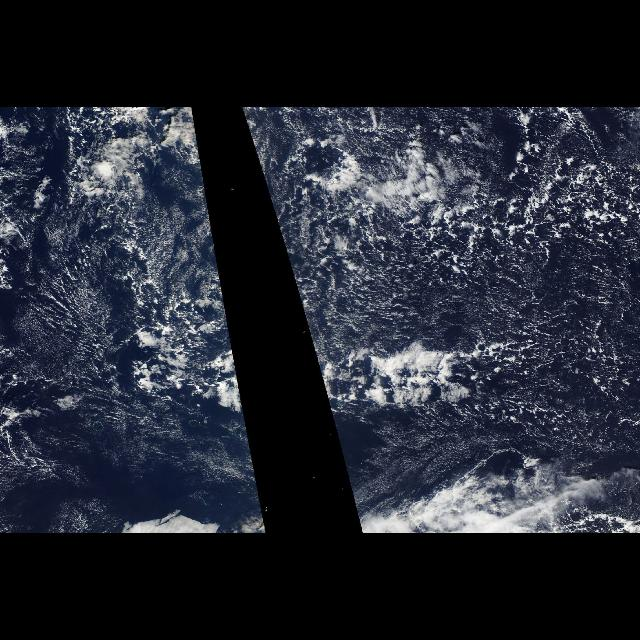Gravel: (253, 113, 639, 439)
Sugar: (8, 207, 212, 447), (290, 246, 640, 344)
